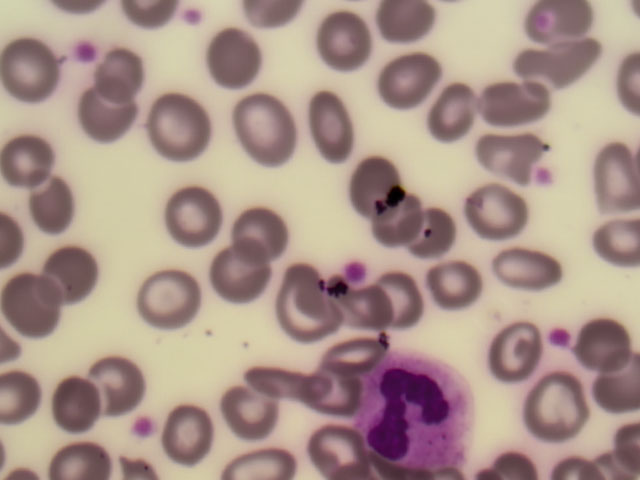Platelets: (175, 5, 205, 33), (75, 38, 97, 67), (127, 415, 154, 436), (537, 160, 556, 189), (345, 262, 372, 282), (551, 324, 571, 349)
RBC: (39, 240, 113, 312), (308, 420, 366, 479), (6, 273, 63, 332), (21, 176, 78, 235), (6, 136, 63, 195), (98, 355, 155, 414), (50, 377, 107, 436), (154, 405, 211, 464), (217, 385, 274, 444), (253, 358, 310, 417), (301, 360, 358, 419), (325, 322, 382, 381), (279, 275, 336, 334), (334, 283, 391, 342), (381, 267, 438, 326), (428, 255, 485, 314), (504, 245, 561, 304), (486, 319, 543, 378), (530, 380, 587, 439), (579, 311, 636, 370), (580, 202, 637, 261), (2, 40, 60, 96), (75, 87, 133, 143), (98, 44, 156, 100), (149, 93, 207, 149), (199, 30, 257, 86), (238, 99, 296, 155), (294, 98, 352, 154), (311, 21, 369, 77), (379, 49, 437, 105), (416, 84, 474, 140), (478, 79, 536, 135), (508, 44, 566, 100), (536, 32, 594, 88), (582, 144, 640, 200), (481, 130, 539, 186), (464, 185, 522, 241), (413, 204, 471, 260), (368, 188, 426, 244), (344, 147, 402, 203), (230, 201, 288, 257), (169, 194, 227, 250), (208, 249, 266, 305), (140, 269, 198, 325), (528, 1, 591, 39)
WBC: (365, 360, 475, 466)
